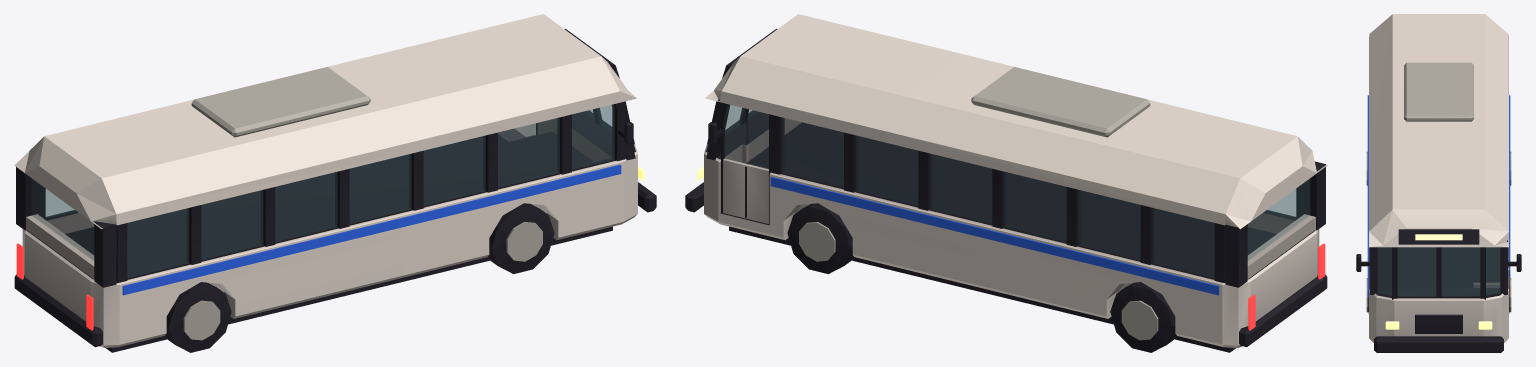
3 views of the same model, side by side, from view 1: azimuth 30°, elevation 25°; view 2: azimuth 150°, elevation 25°; view 3: azimuth 270°, elevation 25° (orthographic). The views are drawn at different scales.
Parts seen in each view (by area): view 1: body_pal_picketWhite, body_pal_uiDark, body_pal_backpackTeal, body_pal_silver, body_pal_policeBlue, wheelRL_pal_uiDark, wheelFL_pal_uiDark, body_pal_sidewalk, wheelRL_pal_silver, wheelFL_pal_silver, lightsBrake_emi_sirenRed; view 2: body_pal_picketWhite, body_pal_uiDark, body_pal_backpackTeal, body_pal_silver, body_pal_policeBlue, doorR_pal_picketWhite, wheelRR_pal_uiDark, wheelFR_pal_uiDark, doorR_pal_backpackTeal, body_pal_sidewalk, wheelRR_pal_silver, wheelFR_pal_silver (+1 smaller); view 3: body_pal_picketWhite, body_pal_uiDark, body_pal_backpackTeal, body_pal_silver, body_pal_policeBlue, signEvac_emi_windowGlow, lightsFront_emi_windowGlow.
Part boxes in pixels (x1,y1,x2,y2): body_pal_picketWhite: [14, 14, 637, 347]; body_pal_uiDark: [14, 28, 656, 352]; body_pal_backpackTeal: [31, 104, 614, 277]; body_pal_silver: [191, 67, 370, 137]; body_pal_policeBlue: [122, 164, 621, 295]; wheelRL_pal_uiDark: [165, 282, 231, 352]; wheelFL_pal_uiDark: [488, 203, 554, 273]; body_pal_sidewalk: [47, 118, 611, 233]; wheelRL_pal_silver: [183, 300, 220, 340]; wheelFL_pal_silver: [506, 222, 542, 261]; lightsBrake_emi_sirenRed: [16, 243, 93, 330]; body_pal_picketWhite: [704, 14, 1327, 347]; body_pal_uiDark: [685, 28, 1327, 352]; body_pal_backpackTeal: [725, 105, 1309, 277]; body_pal_silver: [971, 67, 1150, 137]; body_pal_policeBlue: [770, 176, 1219, 295]; doorR_pal_picketWhite: [723, 158, 768, 223]; wheelRR_pal_uiDark: [1110, 282, 1176, 352]; wheelFR_pal_uiDark: [787, 203, 853, 273]; doorR_pal_backpackTeal: [725, 104, 768, 168]; body_pal_sidewalk: [720, 118, 1294, 233]; wheelRR_pal_silver: [1121, 300, 1158, 340]; wheelFR_pal_silver: [799, 222, 835, 261]; body_pal_picketWhite: [1369, 14, 1508, 342]; body_pal_uiDark: [1356, 37, 1521, 352]; body_pal_backpackTeal: [1378, 247, 1499, 295]; body_pal_silver: [1404, 62, 1473, 121]; body_pal_policeBlue: [1367, 95, 1510, 297]; signEvac_emi_windowGlow: [1415, 234, 1462, 240]; lightsFront_emi_windowGlow: [1385, 321, 1492, 329].
Bounding box in the file's own units: 9.36 × 3.03 × 2.95.
